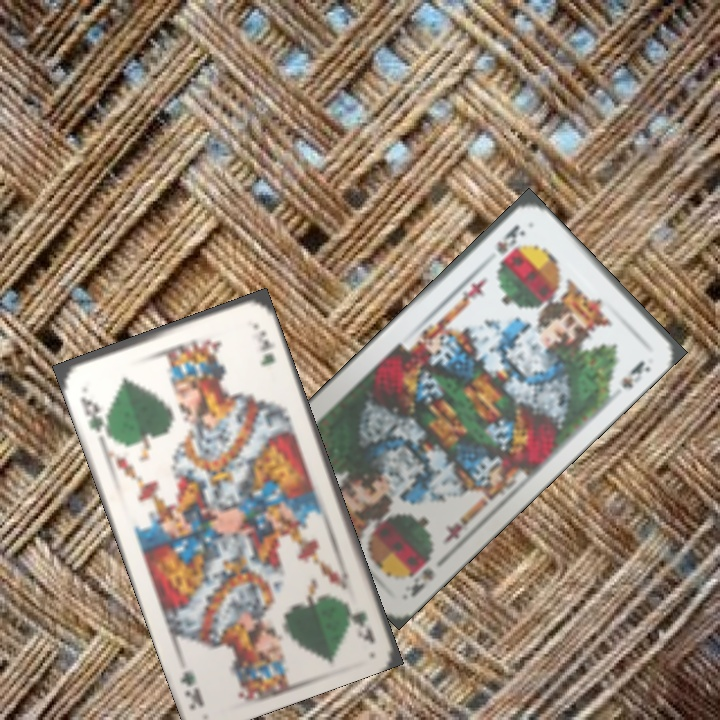GK: (343, 597, 378, 646), (76, 392, 111, 436)
SK: (492, 220, 528, 258), (405, 563, 437, 600)
